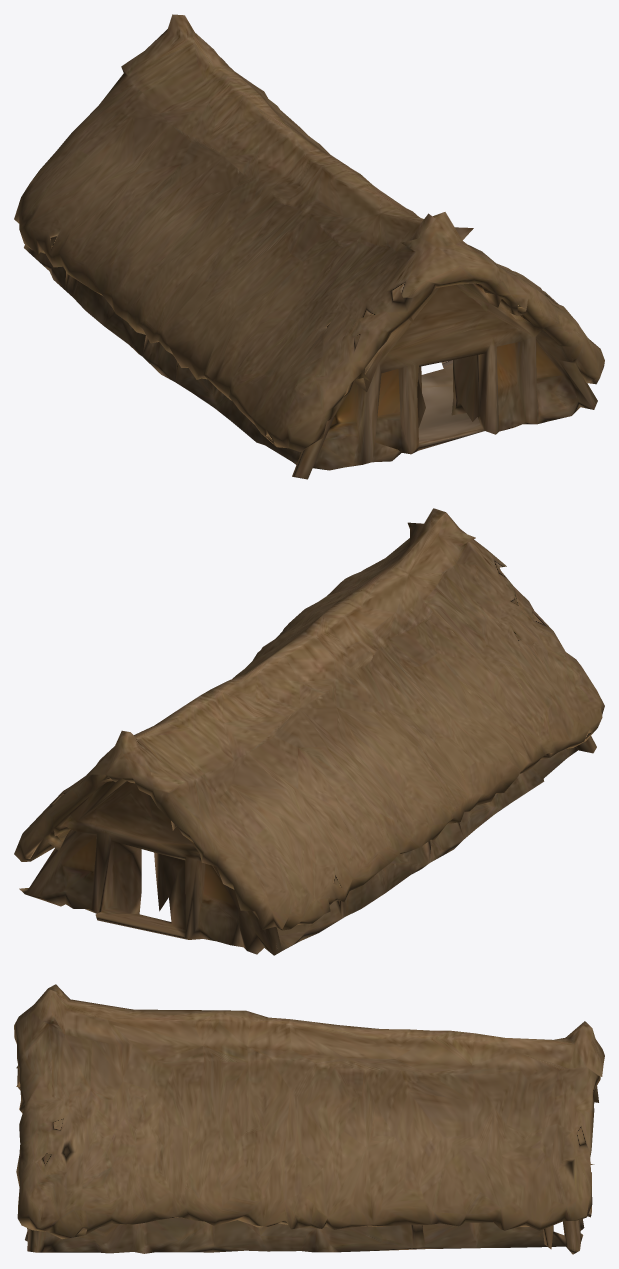
The model's file is peamaja.glb.
3 renders of one model, top to bottom at view 1: azimuth 30°, elevation 25°; view 2: azimuth 150°, elevation 25°; view 3: azimuth 270°, elevation 25°, orthographic. The views are drawn at different scales.
Parts seen in each view (by area): view 1: model; view 2: model; view 3: model.
Boxes of the visible parts, x1,y1,x2,y2 form: model: [14, 14, 604, 479]; model: [14, 508, 604, 955]; model: [14, 984, 604, 1254].
Size of the model in its own units: 0.5767 by 0.3801 by 0.9987.
1 material, 1 textured.
